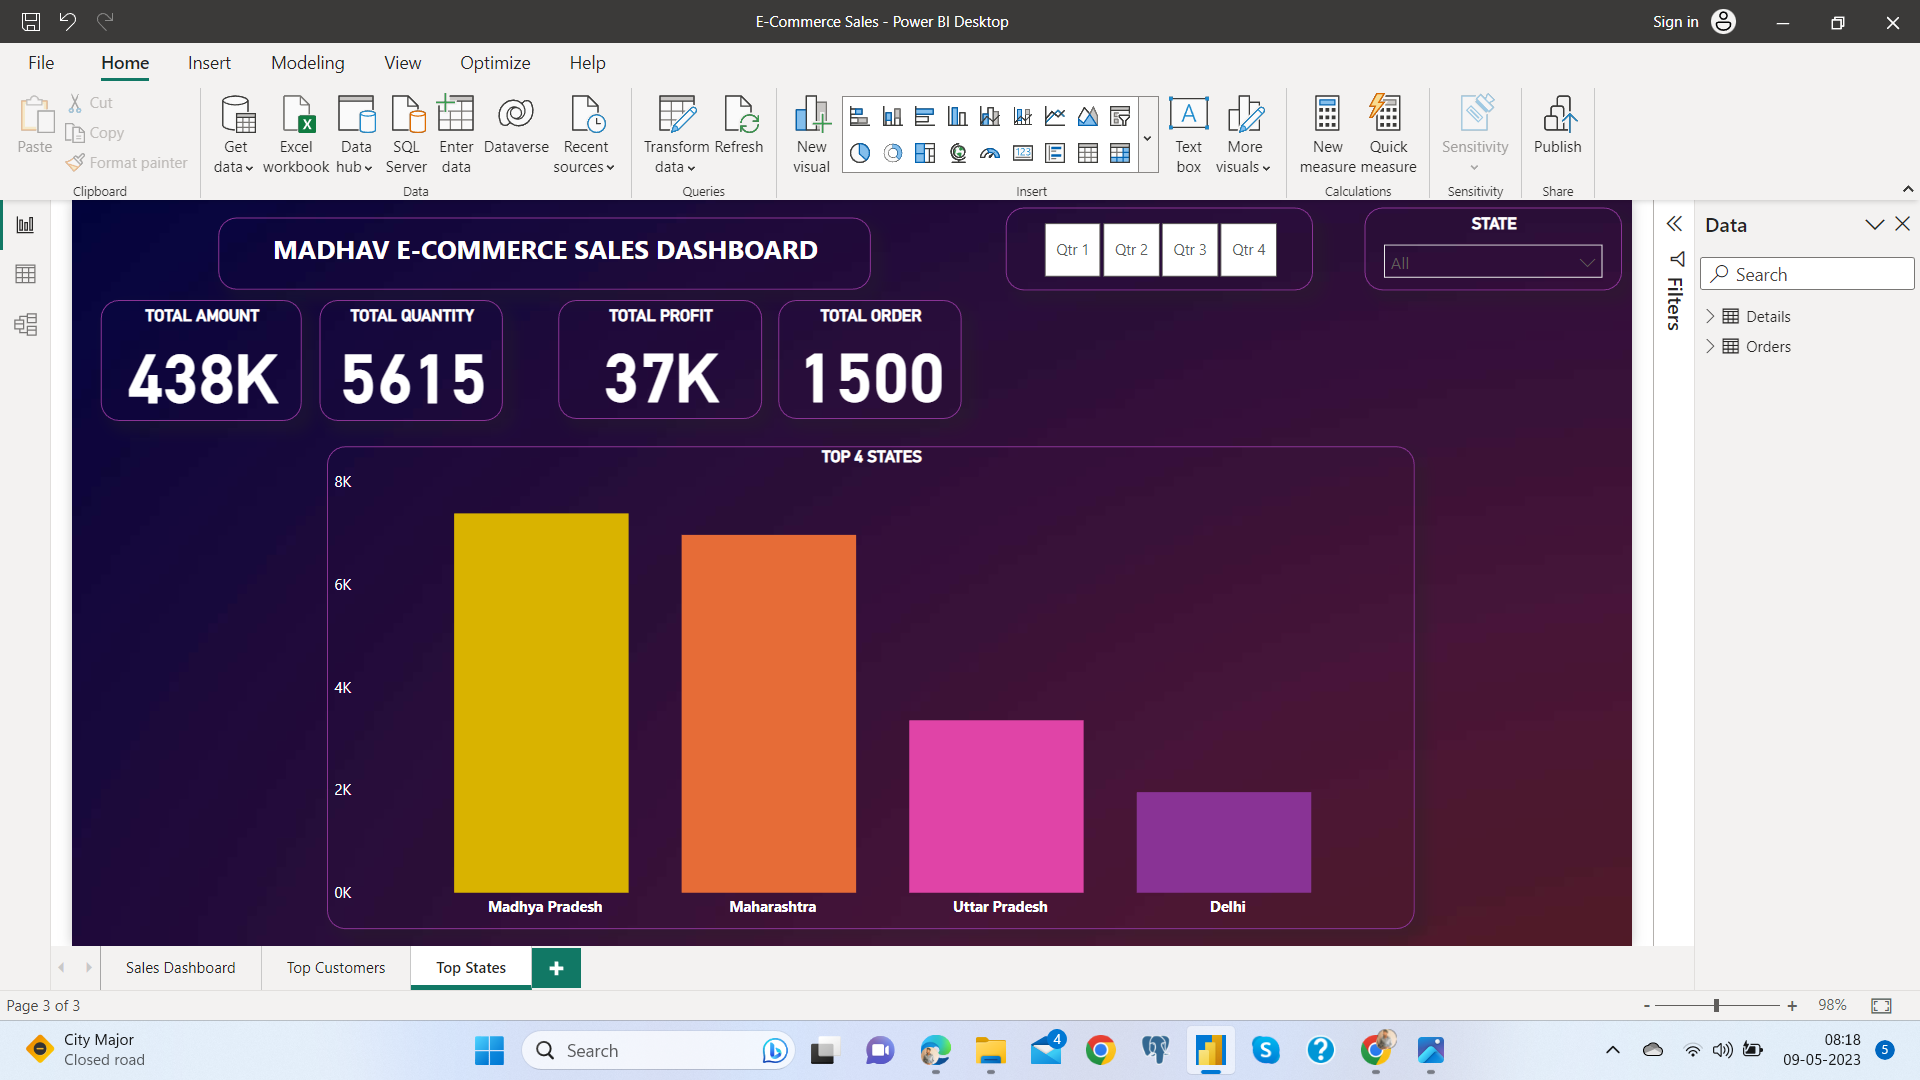

The dashboard page shown, as its layout file describes it:
{"tool":"powerbi","page":{"name":"Top States","canvas":[1280,612],"ordinal":2},"visuals":[{"type":"textbox","box":[119.9,14.4,535.1,59.5],"z":0},{"type":"card","title":"TOTAL AMOUNT","fields":{"Values":["Sum(Details.Amount)"]},"box":[23.6,82,165,99.4],"z":5000},{"type":"card","title":"TOTAL QUANTITY","fields":{"Values":["Sum(Details.Quantity)"]},"box":[203,82,150.7,99.4],"z":6000},{"type":"card","title":"TOTAL PROFIT","fields":{"Values":["Sum(Details.Profit)"]},"box":[398.8,82,167.1,97.4],"z":7000},{"type":"columnChart","title":"TOP 4 STATES","fields":{"Category":["Orders.State"],"Y":["Sum(Details.Profit)"]},"box":[209.1,201.9,891.9,395.7],"z":8000},{"type":"slicer","fields":{"Values":["Orders.Order Date.Variation.Date Hierarchy.Quarter"]},"box":[765.8,6.2,252.2,67.7],"z":10000},{"type":"slicer","title":"STATE","fields":{"Values":["Orders.State"]},"box":[1060,6.2,211.2,67.7],"z":11000},{"type":"card","title":"TOTAL ORDER","fields":{"Values":["CountNonNull(Details.Order ID)"]},"box":[579.2,82,150.7,97.4],"z":12000}]}

Visuals, with their boxes on the page's 1280x612 design canvas (x1, y1, x2, y2). These are canvas units, not pixel positions in the 1920x1080 screenshot, which may show the page scaled, cropped or inside an application window:
textbox: box(120, 14, 655, 74)
"TOTAL AMOUNT" card: box(24, 82, 189, 181)
"TOTAL QUANTITY" card: box(203, 82, 354, 181)
"TOTAL PROFIT" card: box(399, 82, 566, 179)
"TOP 4 STATES" columnChart: box(209, 202, 1101, 598)
slicer - Orders.Order Date.Variation.Date Hierarchy.Quarter: box(766, 6, 1018, 74)
"STATE" slicer: box(1060, 6, 1271, 74)
"TOTAL ORDER" card: box(579, 82, 730, 179)
